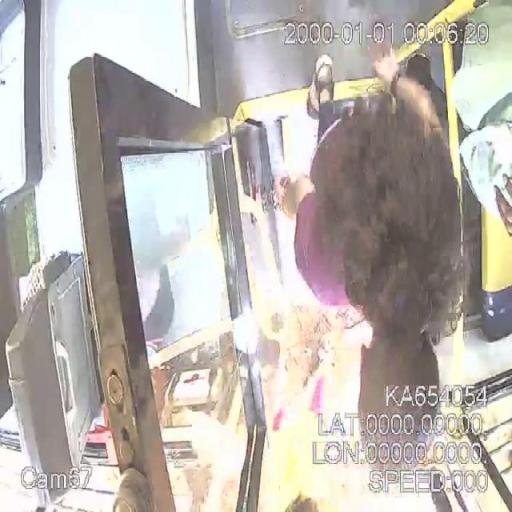persona: (284, 30, 466, 475)
